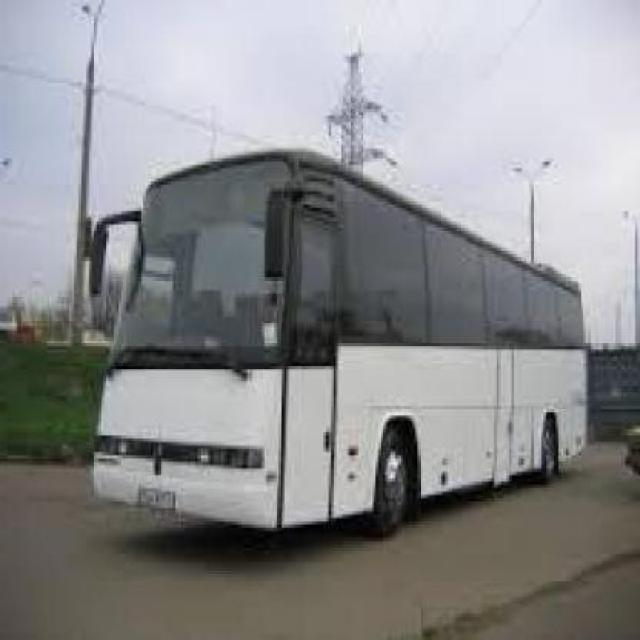bus: (78, 147, 587, 536)
